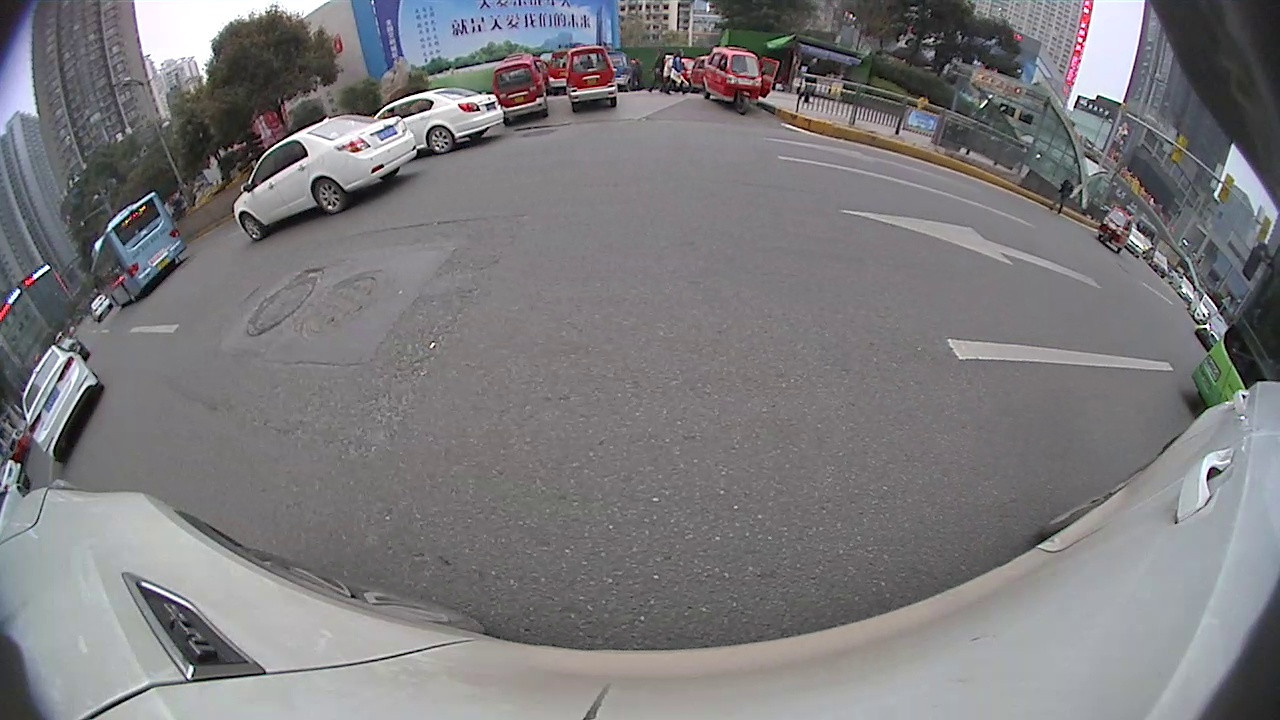bus: (1193, 225, 1277, 431), (90, 193, 186, 312)
car: (233, 113, 418, 245), (25, 343, 105, 468), (370, 86, 505, 157), (1198, 311, 1230, 351), (54, 330, 88, 363), (1194, 290, 1220, 320), (1123, 227, 1148, 256), (1175, 272, 1198, 300), (89, 293, 113, 319), (1148, 248, 1168, 276)
front: (240, 215, 267, 244)
person: (673, 51, 685, 91), (1061, 173, 1072, 213), (663, 53, 673, 88), (654, 53, 664, 87)
rear: (312, 179, 350, 214), (425, 128, 457, 155)
rider: (492, 53, 551, 125), (705, 46, 759, 116), (564, 46, 620, 112), (543, 48, 571, 93), (1101, 207, 1130, 246), (607, 49, 632, 89)
